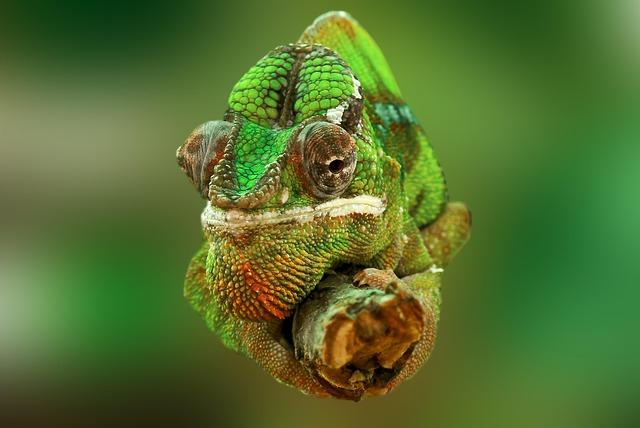Non_Gorille: (91, 0, 545, 408)
